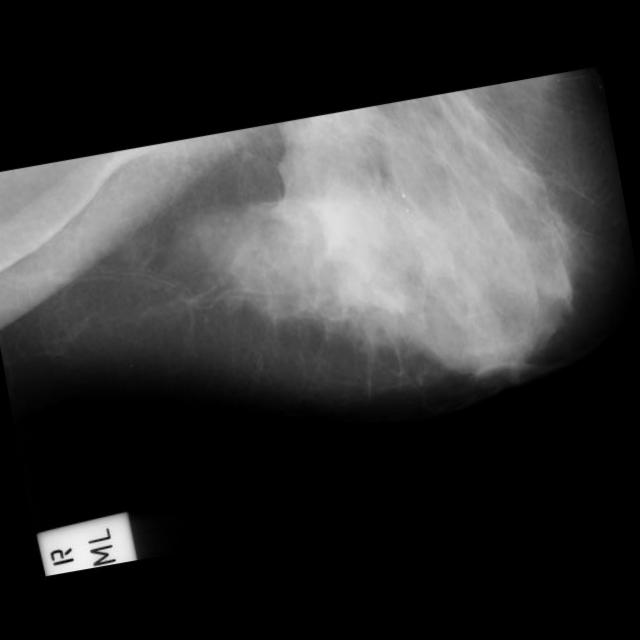ASYM: (300, 76, 374, 150)
